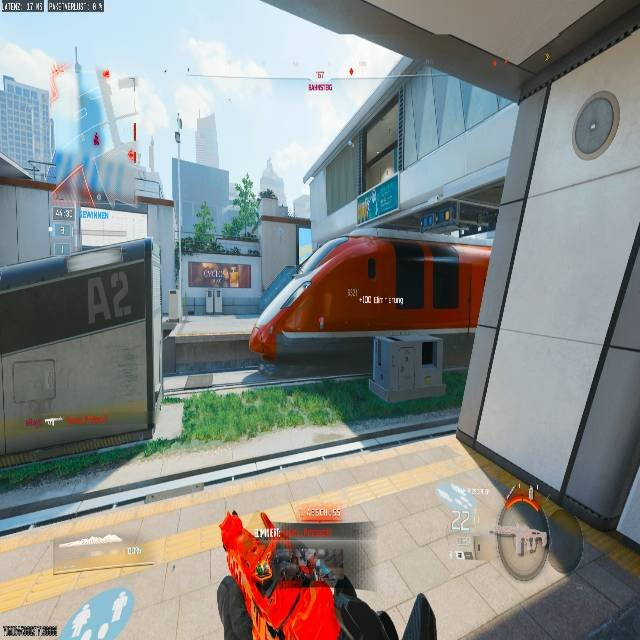player: (248, 324, 274, 359)
